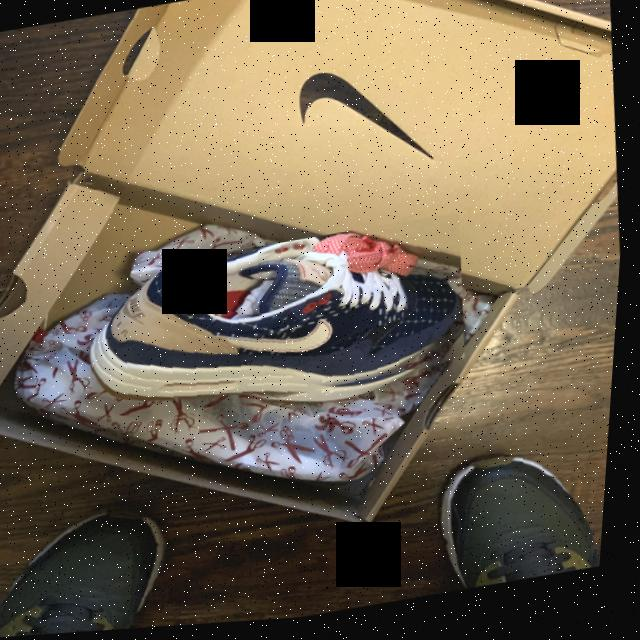shoe: (84, 217, 480, 439), (434, 437, 615, 600), (0, 497, 188, 639)
